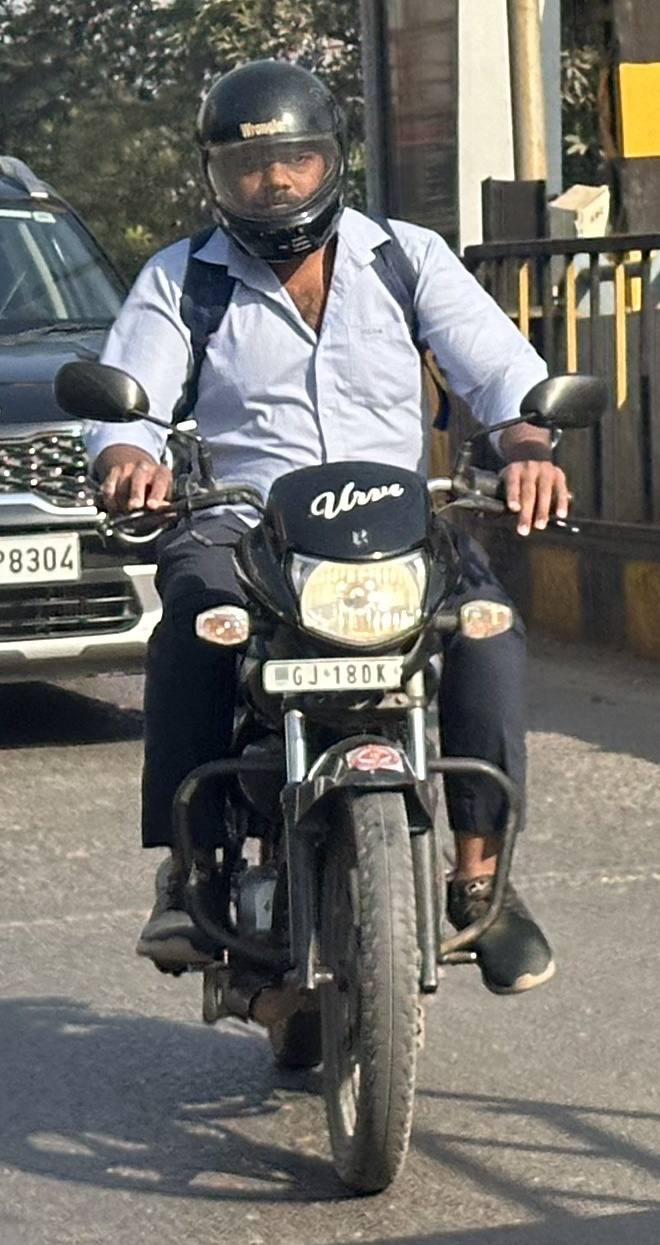BikeWithRider: (44, 48, 617, 1204)
Helmet: (179, 52, 366, 262)
